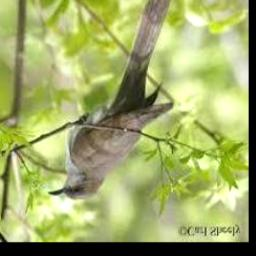Cuckoo: (48, 0, 174, 199)
